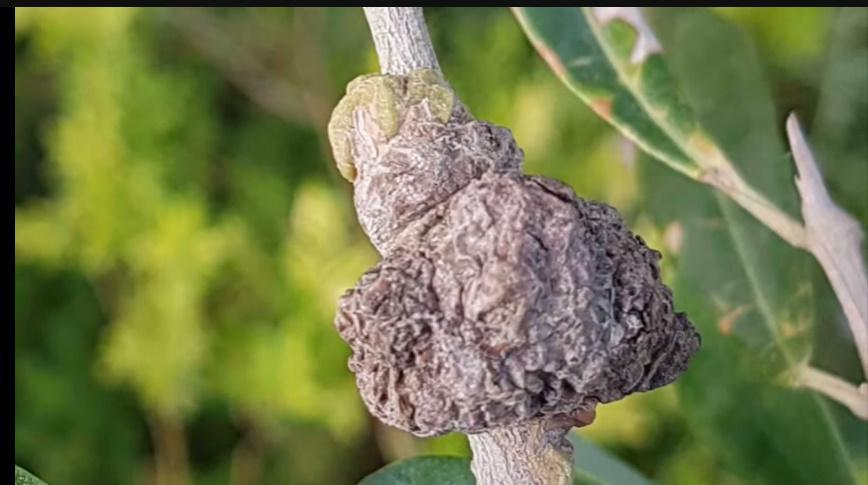Tuberculosis: (320, 54, 706, 454)
